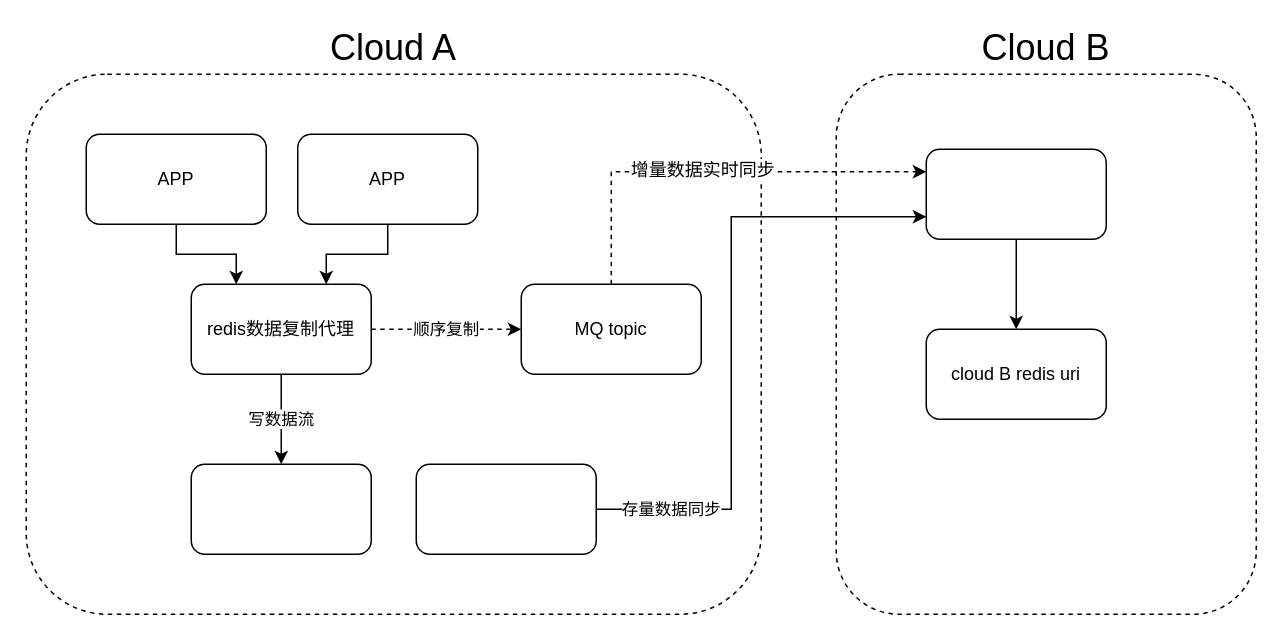
This 1283x641 diagram has some shape labels left out. The shapes that lost their labels are listed below. From the top down, each one's centre as x and y in pixels, then its label:
At [1015,193]: "redissyncer".
At [280,508]: "cloud A redis uri".
At [505,508]: "cloud A redis rdb/AOF".
